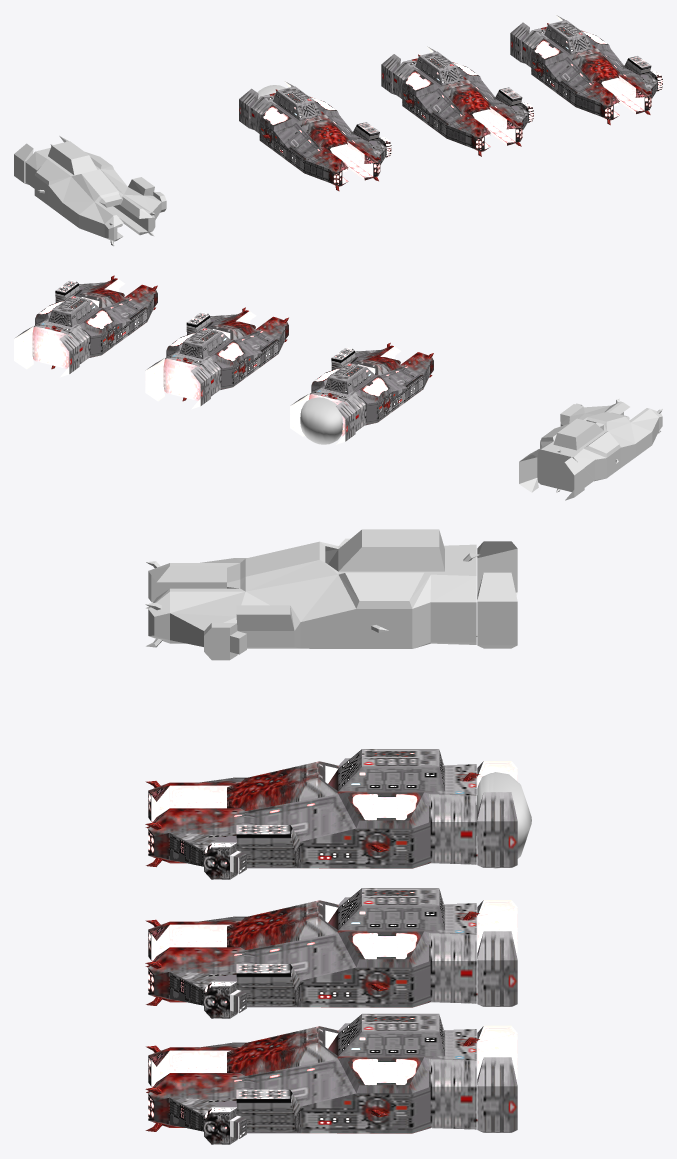
File: hgn_bst_tdn_carrier.dae
The picture shows the model from 3 angles, top to bottom: view 1: azimuth 30°, elevation 25°; view 2: azimuth 150°, elevation 25°; view 3: azimuth 270°, elevation 25°; orthographic projection. The views are drawn at different scales.
Parts seen in each view (by area): view 1: MULT[root_mesh]_LOD[1], MULT[root_mesh]_LOD[0], MULT[root_mesh]_LOD[2], COL[Root]; view 2: MULT[root_mesh]_LOD[2], COL[Root], MULT[root_mesh]_LOD[1], MULT[root_mesh]_LOD[0], GLOW[EngineGlow3_LOD0]_LOD[0]; view 3: MULT[root_mesh]_LOD[2], MULT[root_mesh]_LOD[1], COL[Root], MULT[root_mesh]_LOD[0], GLOW[EngineGlow3_LOD0]_LOD[0].
Part boxes in pixels (x1,y1,x2,y2): MULT[root_mesh]_LOD[1]: [381, 46, 533, 151]; MULT[root_mesh]_LOD[0]: [239, 81, 391, 186]; MULT[root_mesh]_LOD[2]: [510, 15, 662, 120]; COL[Root]: [14, 136, 166, 241]; MULT[root_mesh]_LOD[2]: [14, 278, 157, 377]; COL[Root]: [519, 401, 662, 500]; MULT[root_mesh]_LOD[1]: [145, 310, 288, 409]; MULT[root_mesh]_LOD[0]: [290, 345, 433, 444]; GLOW[EngineGlow3_LOD0]_LOD[0]: [300, 398, 342, 444]; MULT[root_mesh]_LOD[2]: [148, 1013, 517, 1144]; MULT[root_mesh]_LOD[1]: [148, 888, 517, 1018]; COL[Root]: [148, 529, 517, 660]; MULT[root_mesh]_LOD[0]: [148, 749, 517, 879]; GLOW[EngineGlow3_LOD0]_LOD[0]: [479, 772, 531, 868].
Size of what is drawn, in the model's own units: 2395 by 205 by 689.
